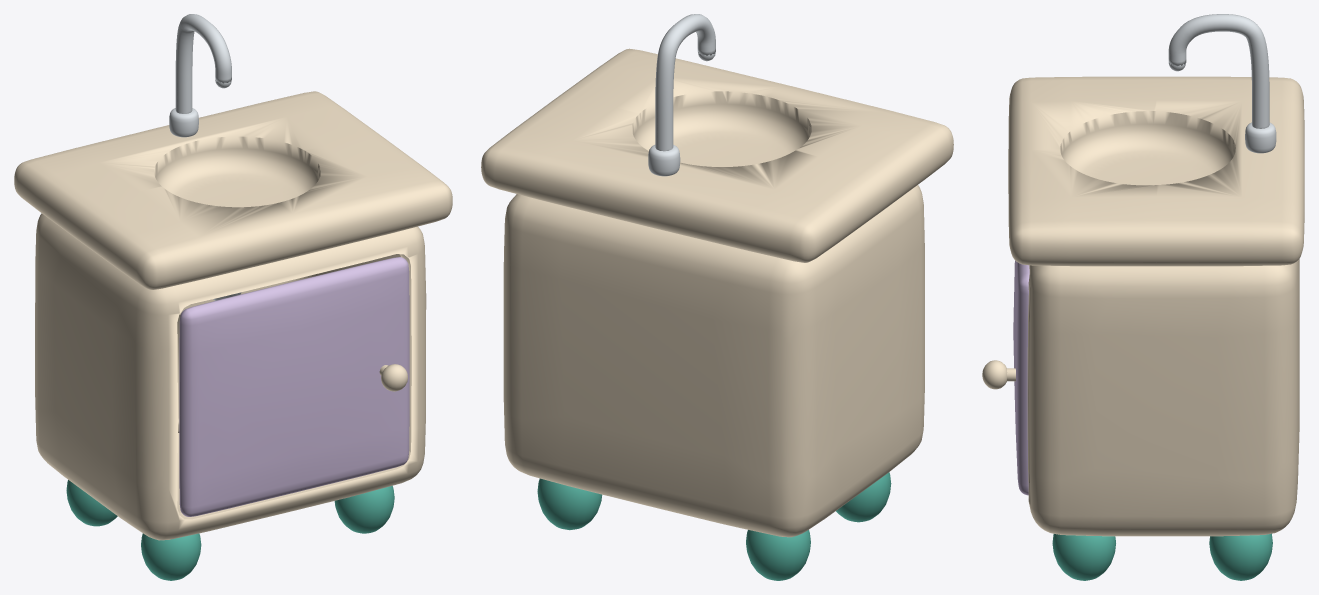
Rendered from sink_c.glb.
The picture shows the model from 3 angles, left to right: view 1: azimuth 30°, elevation 25°; view 2: azimuth 150°, elevation 25°; view 3: azimuth 270°, elevation 25°; orthographic projection. The views are drawn at different scales.
Parts seen in each view (by area): view 1: body, door; view 2: body; view 3: body, door.
Boxes of the visible parts, left/top/right/bottom form: body: left=14, top=14, right=452, bottom=580; door: left=179, top=257, right=409, bottom=516; body: left=481, top=14, right=953, bottom=580; body: left=1008, top=14, right=1304, bottom=580; door: left=982, top=260, right=1029, bottom=495.
Bounding box in the file's own units: 0.78 × 1.16 × 0.6585.
